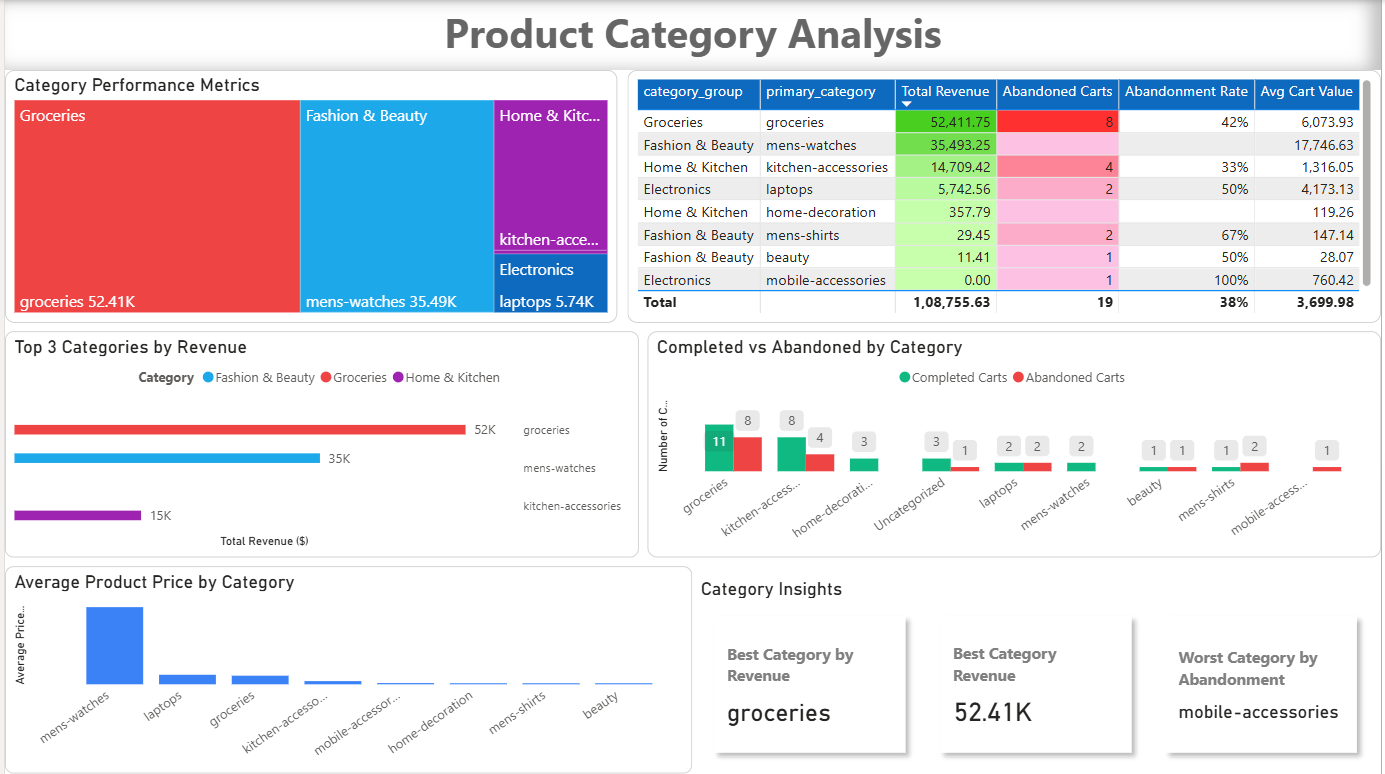

What the dashboard file says about the page in this screenshot:
{"tool":"powerbi","page":{"name":"📦 Product Category Analysis","canvas":[1280,720],"ordinal":2},"visuals":[{"type":"treemap","title":"Category Performance Metrics","fields":{"Group":["CartData_Cleaned.category_group"],"Details":["CartData_Cleaned.primary_category"],"Values":["CartData_Cleaned.Total Revenue"]},"box":[0,65.1,569.8,234.9],"z":0},{"type":"tableEx","fields":{"Values":["CartData_Cleaned.category_group","CartData_Cleaned.primary_category","CartData_Cleaned.Total Revenue","CartData_Cleaned.Abandoned Carts","CartData_Cleaned.Abandonment Rate","CartData_Cleaned.Avg Cart Value"]},"box":[579.1,65.1,701.2,234.9],"z":1000},{"type":"clusteredBarChart","title":"Top 3 Categories by Revenue","fields":{"Category":["CartData_Cleaned.primary_category"],"Y":["CartData_Cleaned.Total Revenue"],"Series":["CartData_Cleaned.category_group"]},"box":[0,308.1,589.5,210.5],"z":2000},{"type":"clusteredColumnChart","title":"Completed vs Abandoned by Category","fields":{"Category":["CartData_Cleaned.primary_category"],"Y":["CartData_Cleaned.Completed Carts","CartData_Cleaned.Abandoned Carts"]},"box":[597.7,308.1,682.6,210.5],"z":3000},{"type":"clusteredColumnChart","title":"Average Product Price by Category","fields":{"Category":["CartData_Cleaned.primary_category"],"Y":["CartData_Cleaned.Avg Product Price"]},"box":[0,526.7,639.5,193],"z":4000},{"type":"cardVisual","title":"Category Insights","fields":{"Data":["CartData_Cleaned.Best Category by Revenue","CartData_Cleaned.Best Category Revenue","CartData_Cleaned.Worst Category by Abandonment"]},"box":[639.5,526.7,640.7,193],"z":5000},{"type":"textbox","box":[0,0,1280,65],"z":6000}]}

Visuals, with their boxes in screenshot pixels (x1, y1, x2, y2), scaled from the page's 1280x720 canvas onto the 1385x774 screenshot:
"Category Performance Metrics" treemap: 0, 70, 617, 322
tableEx - CartData_Cleaned.category_group x CartData_Cleaned.primary_category: 627, 70, 1384, 322
"Top 3 Categories by Revenue" clusteredBarChart: 0, 331, 638, 557
"Completed vs Abandoned by Category" clusteredColumnChart: 647, 331, 1384, 557
"Average Product Price by Category" clusteredColumnChart: 0, 566, 692, 773
"Category Insights" cardVisual: 692, 566, 1384, 773
textbox: 0, 0, 1384, 70
